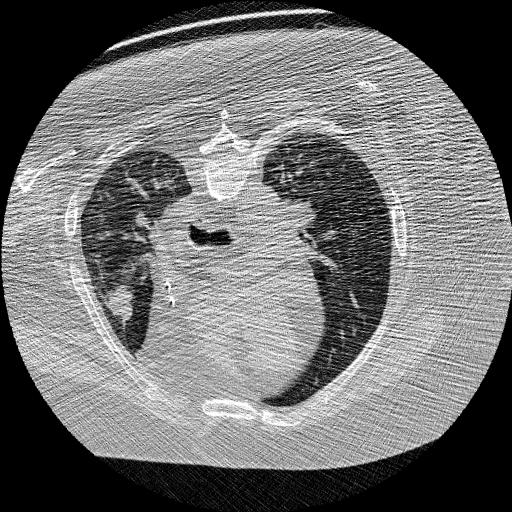nodule: (98, 286, 137, 325)
